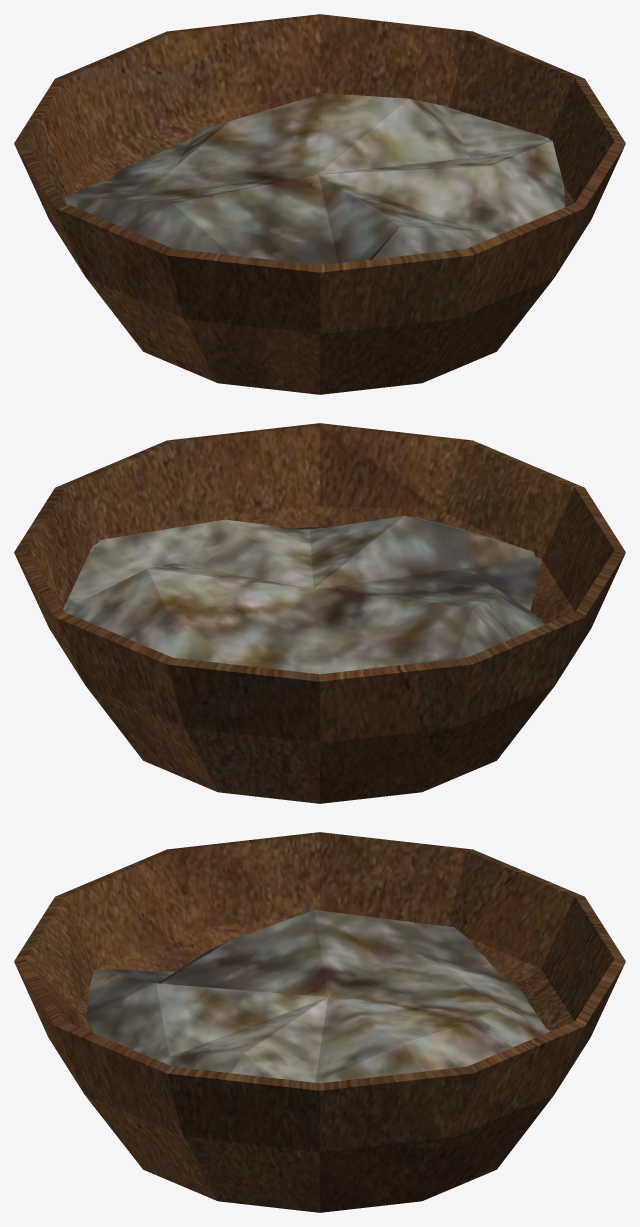
The model's file is KM_ITFO_OATMEAL.glb.
3 renders of one model, top to bottom at view 1: azimuth 30°, elevation 25°; view 2: azimuth 150°, elevation 25°; view 3: azimuth 270°, elevation 25°, orthographic.
Parts seen in each view (by area): view 1: KM_ITFO_OATMEAL; view 2: KM_ITFO_OATMEAL; view 3: KM_ITFO_OATMEAL.
Part boxes in pixels (left/top/right/bottom): KM_ITFO_OATMEAL: left=14, top=14, right=625, bottom=394; KM_ITFO_OATMEAL: left=14, top=423, right=625, bottom=803; KM_ITFO_OATMEAL: left=14, top=832, right=625, bottom=1212.
Size of the model in its own units: 0.2634 by 0.0797 by 0.2634.
2 materials, 2 textured.
